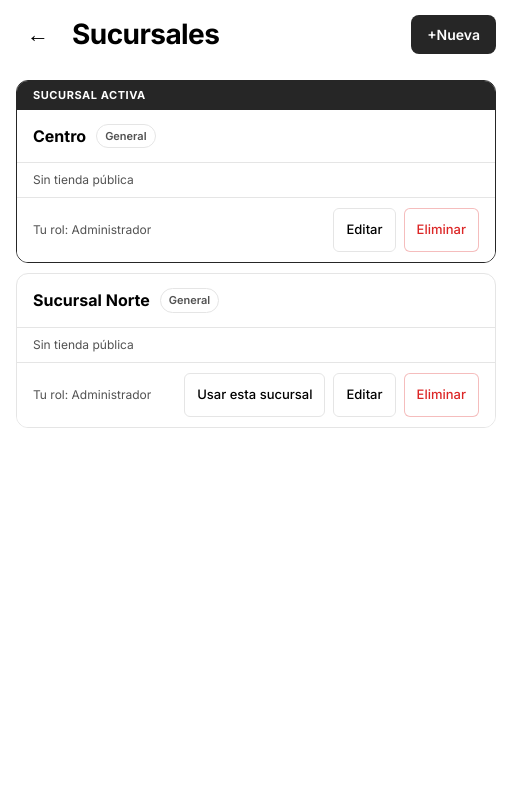
Scenario: BranchesPage /settings/branches (REQ-SETTINGSREORG-3, REQ-SETTINGSREORG-9) › shows a placeholder message when the branch has no slug yet
The image size is (513, 812).
Click the button "Editar" below "Sucursal Norte". click: (365,394)
box: top-left (334, 372), bottom-right (396, 416)
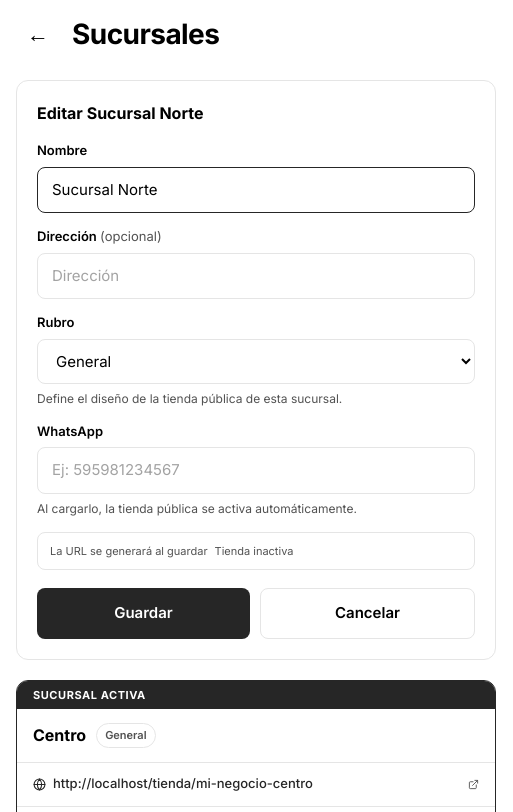
Result: the text "La URL se generará al guardar" is shown at top-left (50, 542), bottom-right (208, 559)
Result: the text "Tienda inactiva" is shown at top-left (215, 542), bottom-right (294, 559)
